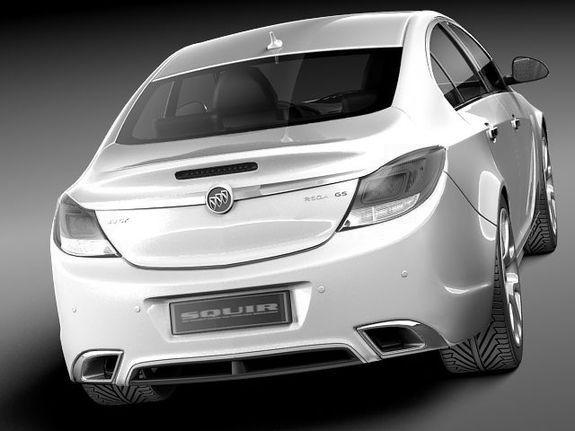car: (51, 14, 560, 409)
